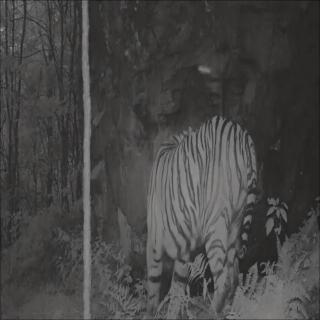Tiger: (133, 86, 258, 320)
